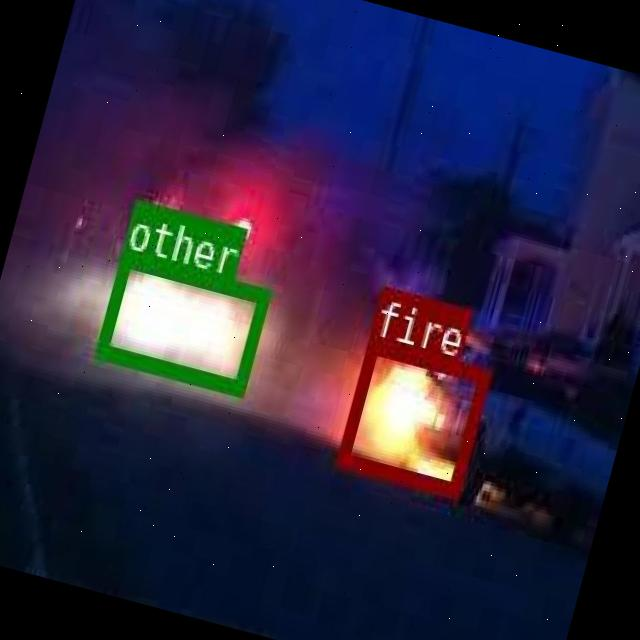fire: (334, 335, 488, 496)
